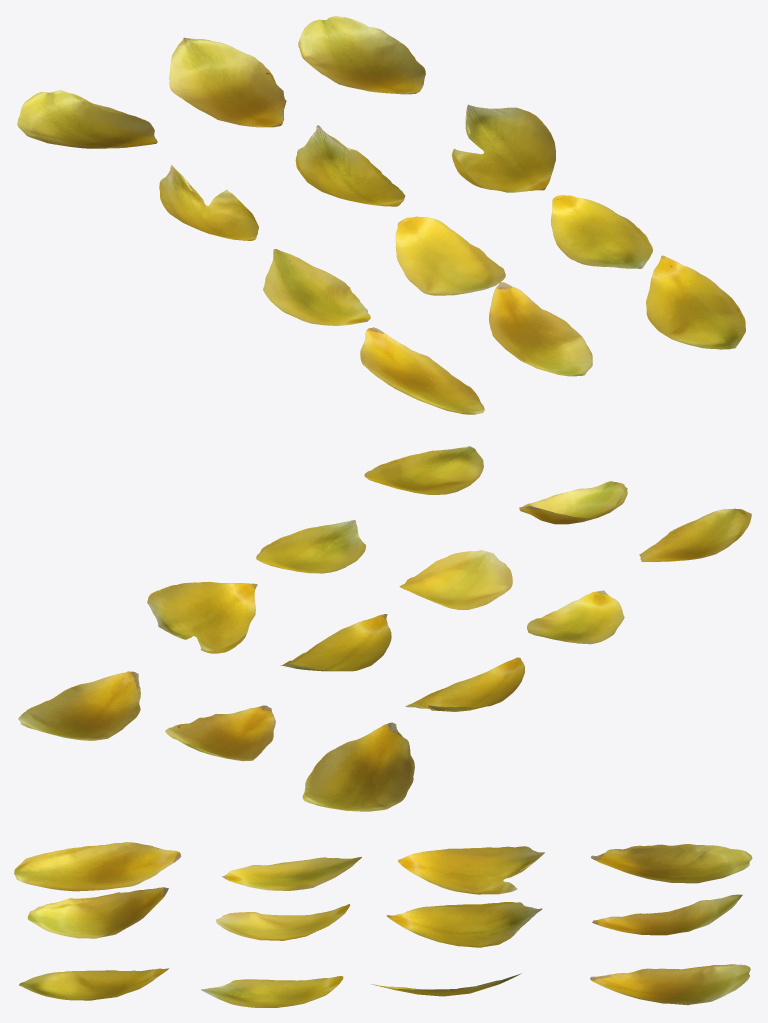
Rendered from tulipPetals.obj.
3 views of the same model, one above another, from view 1: azimuth 30°, elevation 25°; view 2: azimuth 150°, elevation 25°; view 3: azimuth 270°, elevation 25° (orthographic). The views are drawn at different scales.
Visible parts, largest first — view 1: tulipPetal_02, tulipPetal_06, tulipPetal_03, tulipPetal_12, tulipPetal_08, tulipPetal_11, tulipPetal_01, tulipPetal_09, tulipPetal_10, tulipPetal_07, tulipPetal_05, tulipPetal_04; view 2: tulipPetal_01, tulipPetal_06, tulipPetal_03, tulipPetal_08, tulipPetal_12, tulipPetal_02, tulipPetal_09, tulipPetal_05, tulipPetal_10, tulipPetal_07, tulipPetal_04, tulipPetal_11; view 3: tulipPetal_10, tulipPetal_04, tulipPetal_05, tulipPetal_01, tulipPetal_03, tulipPetal_11, tulipPetal_12, tulipPetal_09, tulipPetal_07, tulipPetal_02, tulipPetal_08, tulipPetal_06.
Part boxes in pixels (left/top/right/bottom): tulipPetal_02: left=169, top=37, right=286, bottom=127; tulipPetal_06: left=451, top=104, right=555, bottom=192; tulipPetal_03: left=298, top=16, right=425, bottom=94; tulipPetal_12: left=646, top=255, right=745, bottom=349; tulipPetal_08: left=395, top=216, right=505, bottom=295; tulipPetal_11: left=489, top=282, right=592, bottom=376; tulipPetal_01: left=17, top=90, right=157, bottom=148; tulipPetal_09: left=551, top=195, right=652, bottom=268; tulipPetal_10: left=360, top=327, right=484, bottom=414; tulipPetal_07: left=263, top=249, right=370, bottom=325; tulipPetal_05: left=295, top=125, right=405, bottom=206; tulipPetal_04: left=159, top=165, right=258, bottom=240; tulipPetal_01: left=302, top=722, right=414, bottom=811; tulipPetal_06: left=147, top=581, right=257, bottom=653; tulipPetal_03: left=18, top=671, right=140, bottom=740; tulipPetal_08: left=399, top=550, right=512, bottom=609; tulipPetal_12: left=364, top=446, right=483, bottom=494; tulipPetal_02: left=165, top=705, right=275, bottom=761; tulipPetal_09: left=256, top=520, right=365, bottom=573; tulipPetal_05: left=280, top=614, right=391, bottom=671; tulipPetal_10: left=639, top=508, right=751, bottom=561; tulipPetal_07: left=527, top=590, right=624, bottom=644; tulipPetal_04: left=405, top=657, right=524, bottom=711; tulipPetal_11: left=519, top=481, right=627, bottom=524; tulipPetal_10: left=14, top=842, right=181, bottom=891; tulipPetal_04: left=398, top=846, right=544, bottom=894; tulipPetal_05: left=387, top=902, right=541, bottom=947; tulipPetal_01: left=591, top=844, right=752, bottom=883; tulipPetal_03: left=590, top=964, right=750, bottom=1005; tulipPetal_11: left=27, top=887, right=168, bottom=938; tulipPetal_12: left=19, top=968, right=168, bottom=1000; tulipPetal_09: left=201, top=976, right=343, bottom=1007; tulipPetal_07: left=222, top=856, right=361, bottom=890; tulipPetal_02: left=592, top=894, right=742, bottom=935; tulipPetal_08: left=216, top=904, right=350, bottom=940; tulipPetal_06: left=371, top=973, right=521, bottom=996.
Bounding box in the file's own units: 26.38 × 3.8 × 50.7.
1 material, 1 textured.
